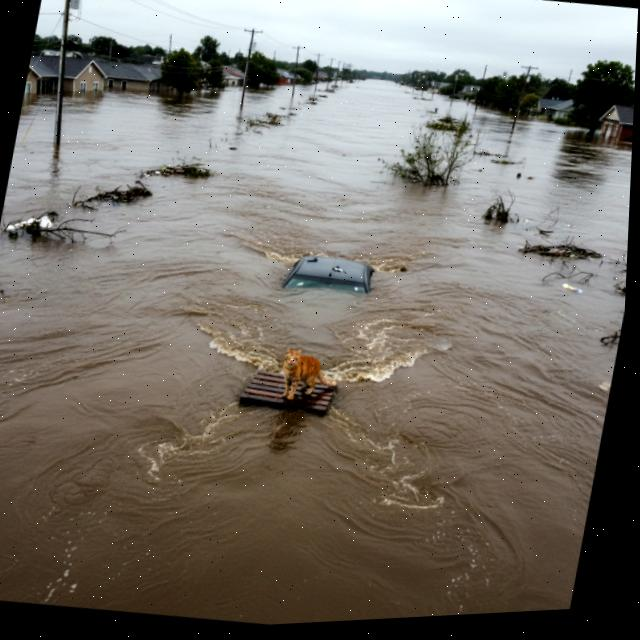cat: (263, 338, 350, 410)
